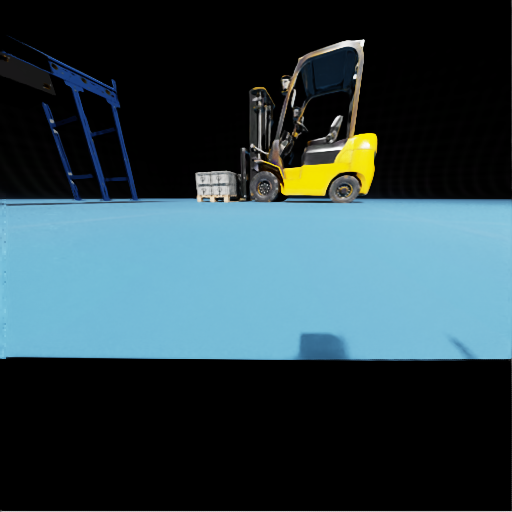transportation_area: (212, 184, 240, 194), (233, 172, 234, 177)
